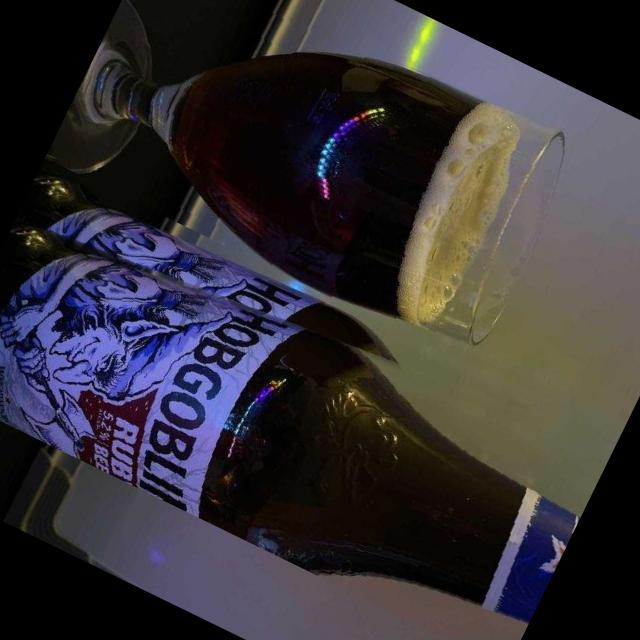Glass: (0, 165, 615, 640), (43, 0, 583, 367)
